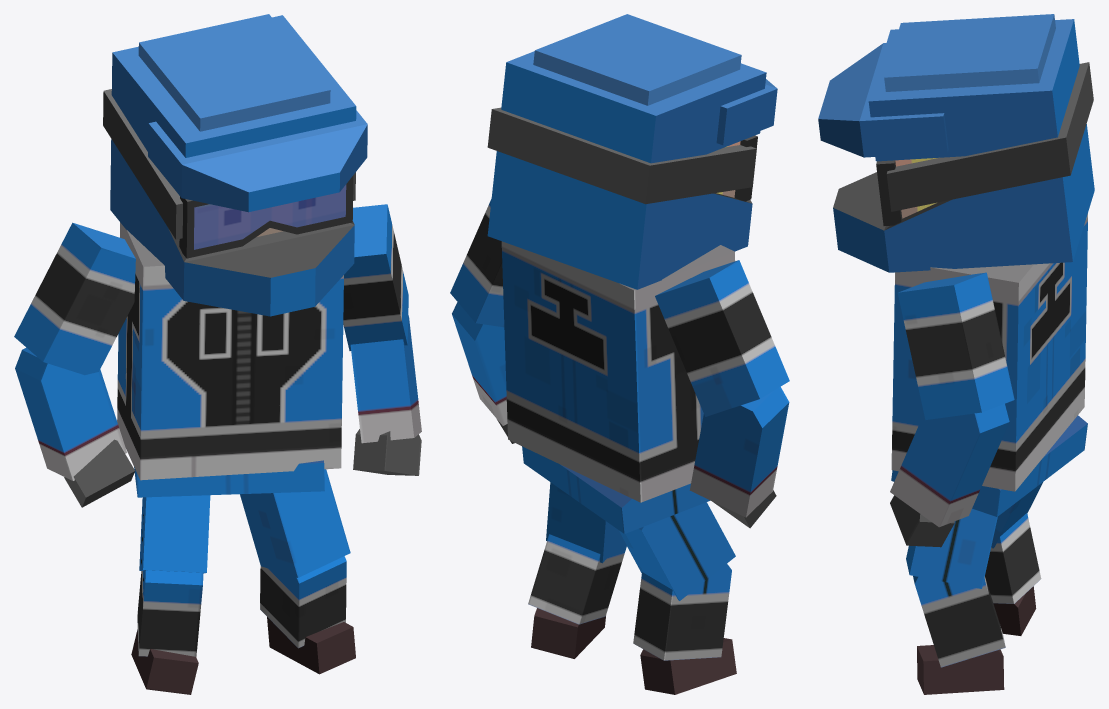
The model's file is Character_Pose_01.fbx.
The picture shows the model from 3 angles, left to right: view 1: azimuth 30°, elevation 25°; view 2: azimuth 150°, elevation 25°; view 3: azimuth 270°, elevation 25°; orthographic projection.
Parts seen in each view (by area): view 1: Character_Pose_01; view 2: Character_Pose_01; view 3: Character_Pose_01.
Part boxes in pixels (x1=…): Character_Pose_01: x1=14, y1=14, x2=421, y2=694; Character_Pose_01: x1=450, y1=14, x2=789, y2=694; Character_Pose_01: x1=818, y1=14, x2=1094, y2=694.
Bounding box in the file's own units: 175 × 292 × 119.
1 material, 1 textured.
